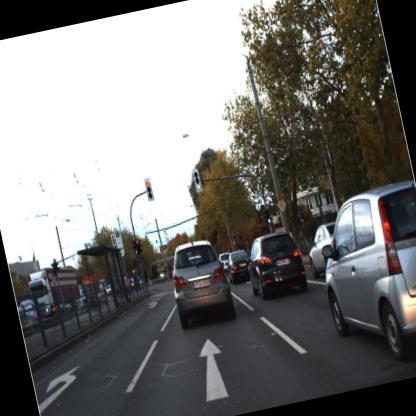other: (274, 192, 288, 215)
